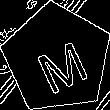M_NW: (26, 26, 89, 91)
